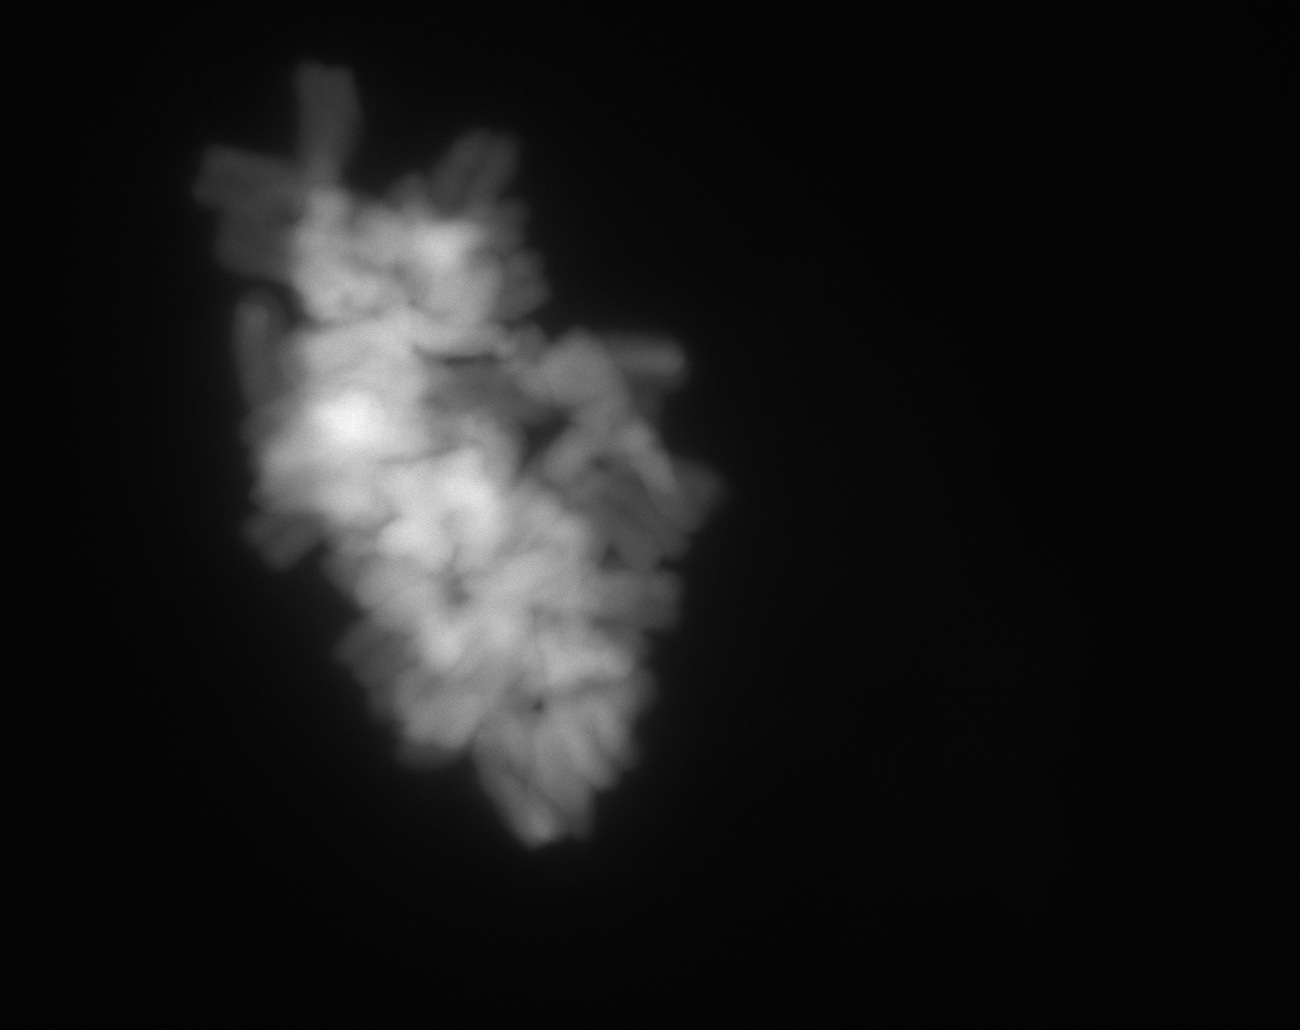Chromosomes: (137, 117, 791, 918)
